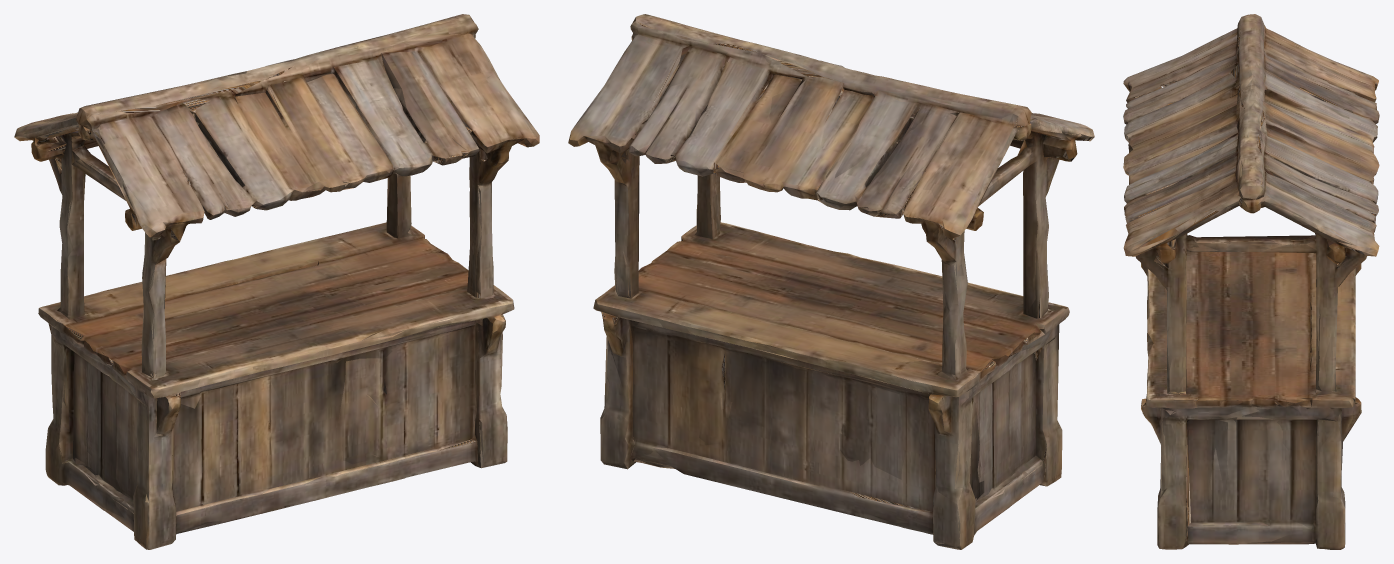
The model's file is rustic_market_stall.glb.
The picture shows the model from 3 angles, left to right: view 1: azimuth 30°, elevation 25°; view 2: azimuth 150°, elevation 25°; view 3: azimuth 270°, elevation 25°; orthographic projection. The views are drawn at different scales.
Visible parts, largest first — view 1: turn, mesh_lod; view 2: turn, mesh_lod; view 3: turn, mesh_lod.
Part boxes in pixels (x1,y1,x2,y2): turn: [14, 14, 539, 549]; mesh_lod: [14, 16, 539, 547]; turn: [568, 14, 1094, 549]; mesh_lod: [577, 21, 1094, 543]; turn: [1123, 14, 1379, 549]; mesh_lod: [1123, 14, 1379, 549].
Size of the model in its own units: 2.74 by 2.7 by 1.69.
1 material, 1 textured.
